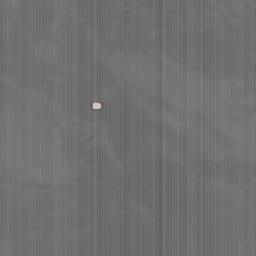Target: (89, 99, 104, 112)
